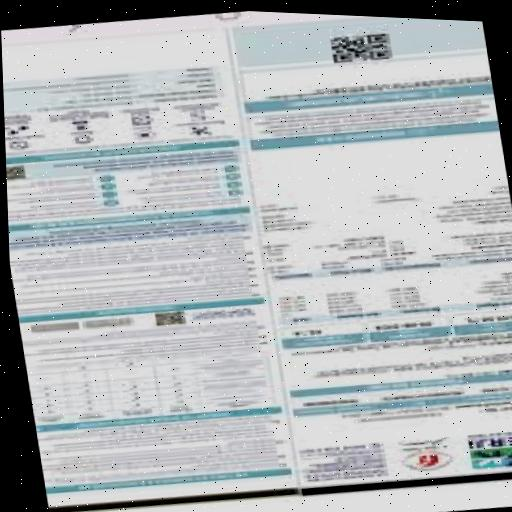electricity-bill: (2, 18, 512, 512)
